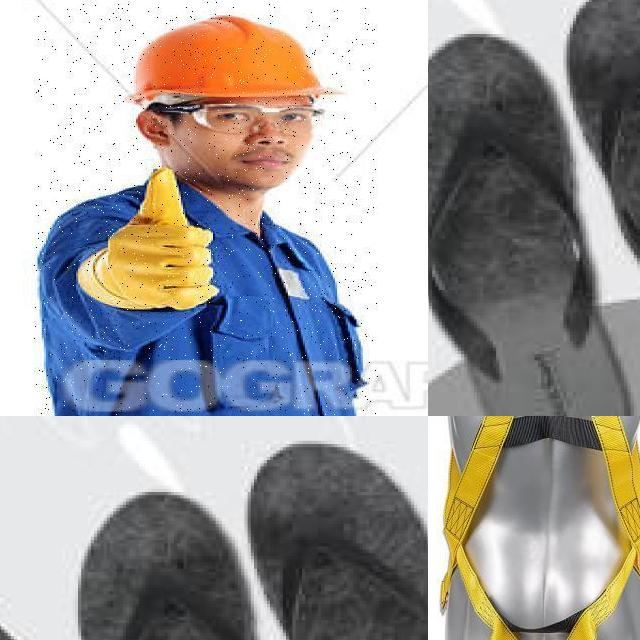Harness: (441, 416, 640, 640)
No_Ear-Protection: (131, 106, 173, 162)
Sandals: (6, 424, 428, 640), (428, 0, 640, 416)
face_nomask: (186, 118, 310, 193)
glasses: (150, 102, 324, 136)
hand_glove: (78, 168, 218, 309)
head_helmet: (130, 16, 333, 102)
